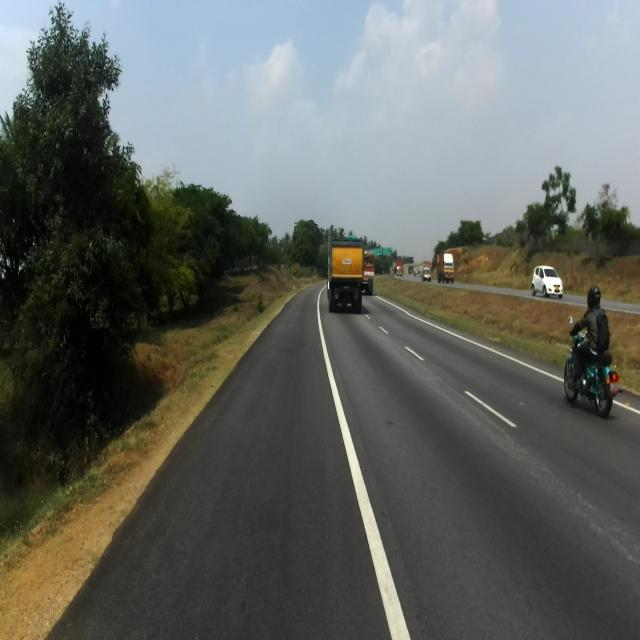Car_Maruti-Suzuki: (530, 265, 564, 297)
motorcycle_RoyalEnfield: (563, 314, 621, 418)
truck: (326, 236, 361, 318), (435, 250, 455, 285)
